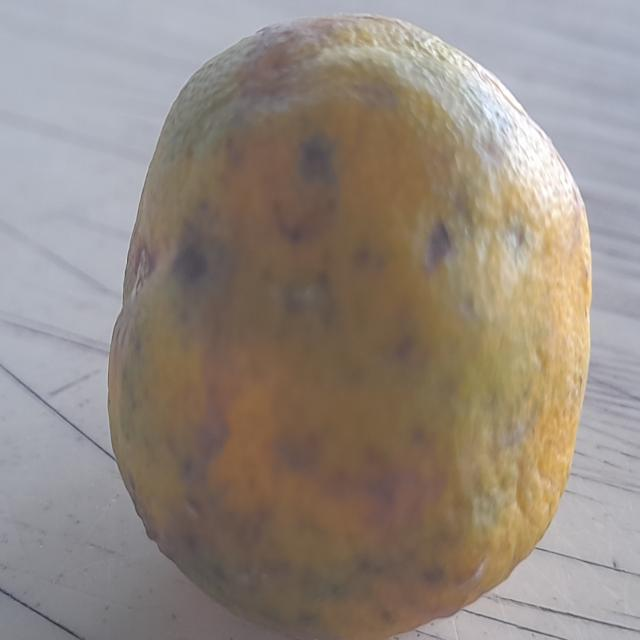black spot: (116, 17, 588, 620)
